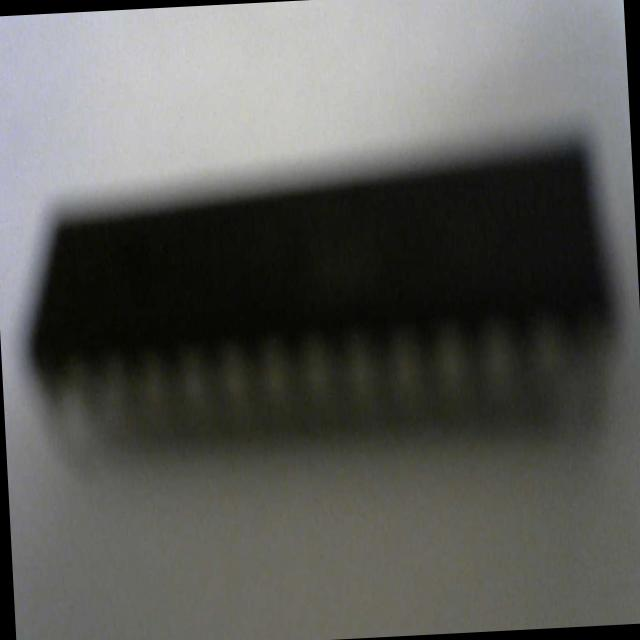atmega: (16, 131, 622, 465)
